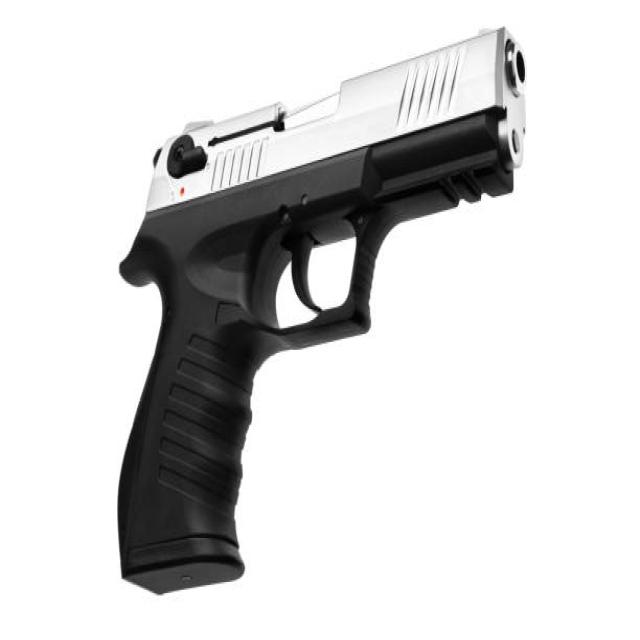pistol: (102, 16, 533, 604)
